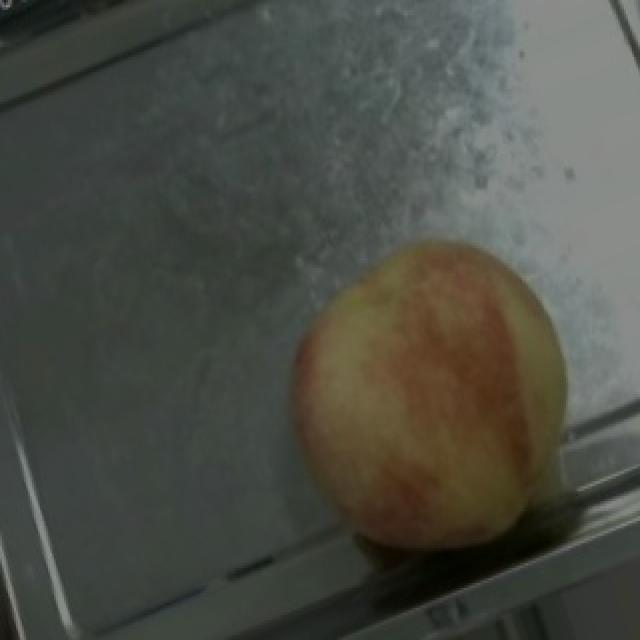Fruit: (258, 198, 618, 588)
